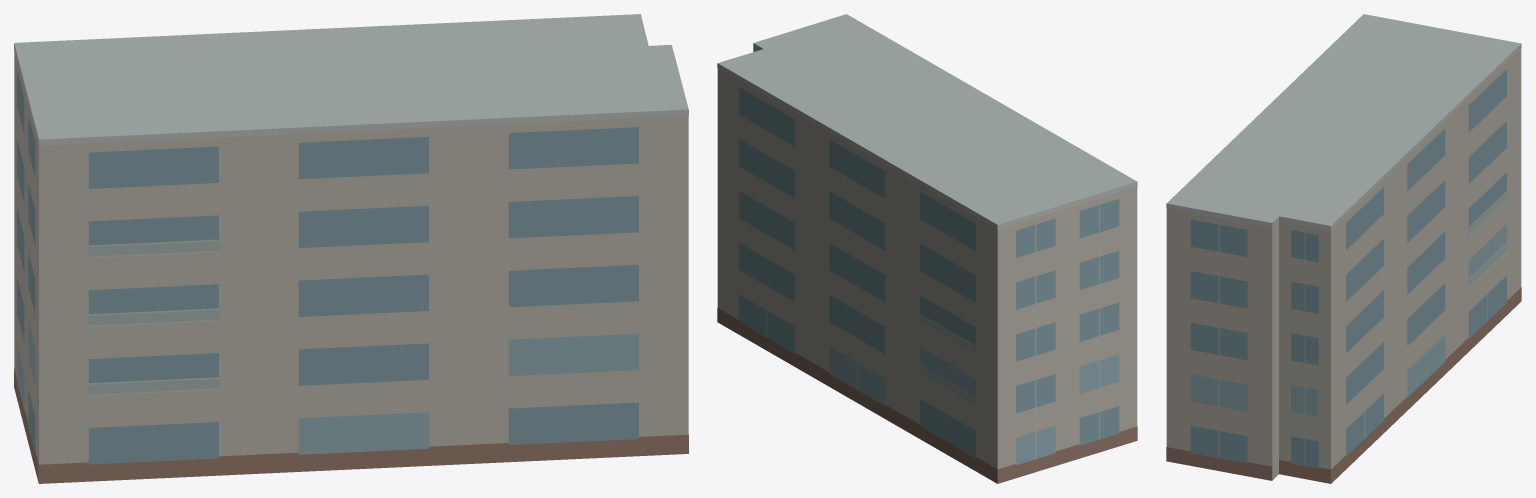
File: survey-upis-32901111.glb
3 views of the same model, side by side, from view 1: azimuth 30°, elevation 25°; view 2: azimuth 150°, elevation 25°; view 3: azimuth 270°, elevation 25° (orthographic). The views are drawn at different scales.
Parts seen in each view (by area): view 1: survey-upis-32901111.tmp; view 2: survey-upis-32901111.tmp; view 3: survey-upis-32901111.tmp.
Part boxes in pixels (x1,y1,x2,y2): survey-upis-32901111.tmp: (14,14,688,483); survey-upis-32901111.tmp: (717,14,1137,483); survey-upis-32901111.tmp: (1166,14,1521,483).
Bounding box in the file's own units: 23.46 × 13.3 × 16.6.
